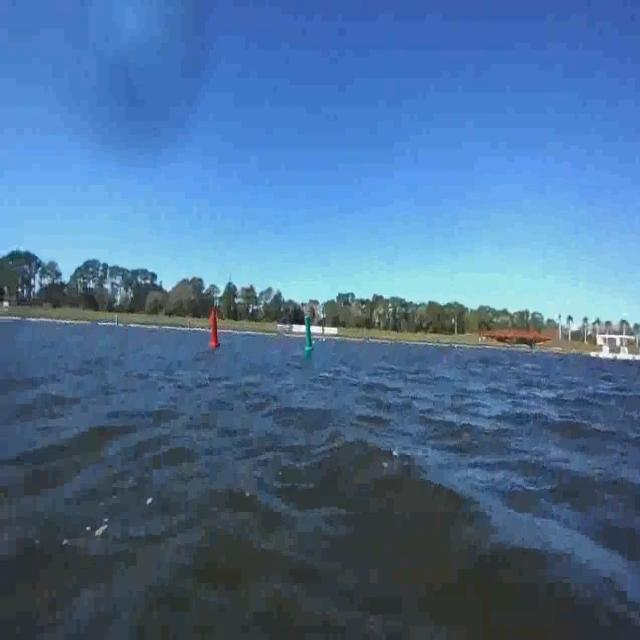green-column-buoy: (301, 312, 315, 364)
red-column-buoy: (206, 304, 225, 359)
